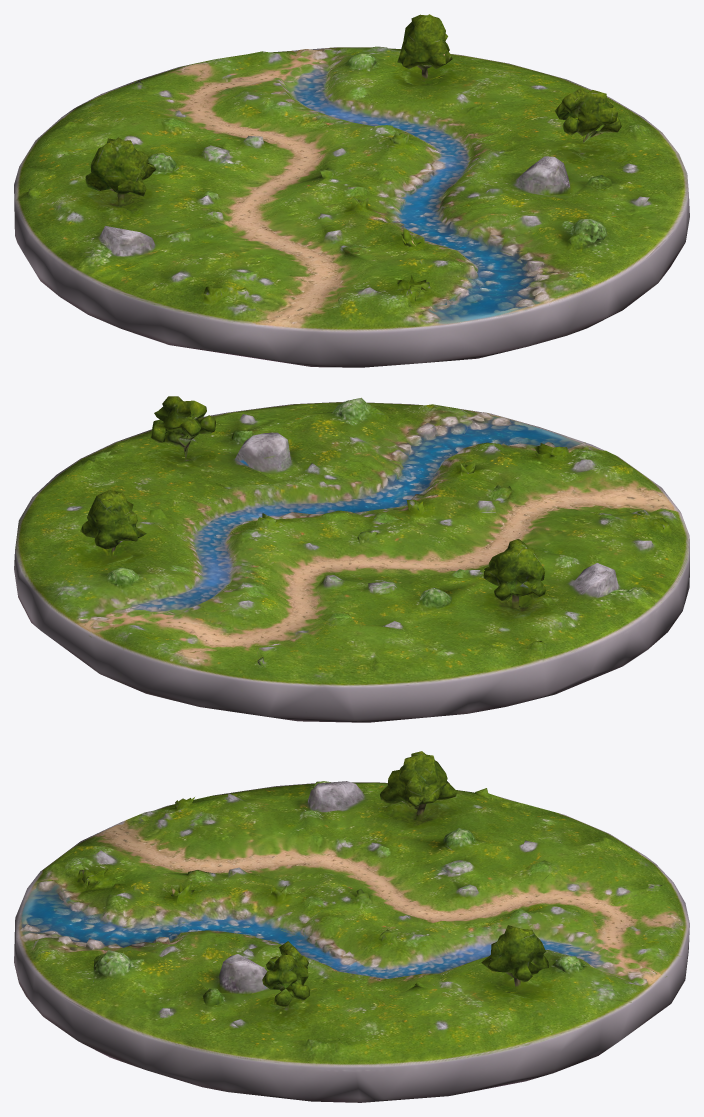
The model's file is Explorer World Terrain.glb.
The picture shows the model from 3 angles, top to bottom: view 1: azimuth 30°, elevation 25°; view 2: azimuth 150°, elevation 25°; view 3: azimuth 270°, elevation 25°; orthographic projection.
Parts seen in each view (by area): view 1: Mesh1.0; view 2: Mesh1.0; view 3: Mesh1.0.
Boxes of the visible parts, x1,y1,x2,y2 form: Mesh1.0: (14,14,689,367); Mesh1.0: (14,396,689,722); Mesh1.0: (14,751,689,1102).
Size of the model in its own units: 1.91 by 0.3518 by 1.91.
1 material, 1 textured.
